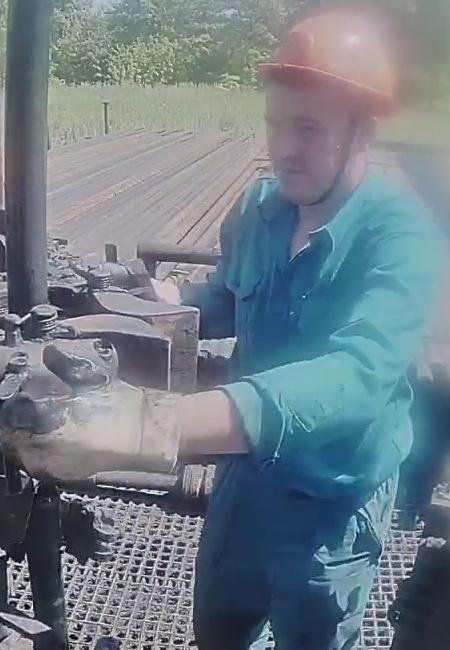gloves: (3, 345, 193, 483), (97, 260, 186, 303)
helmet: (252, 18, 401, 118)
vest: (223, 165, 450, 492)
